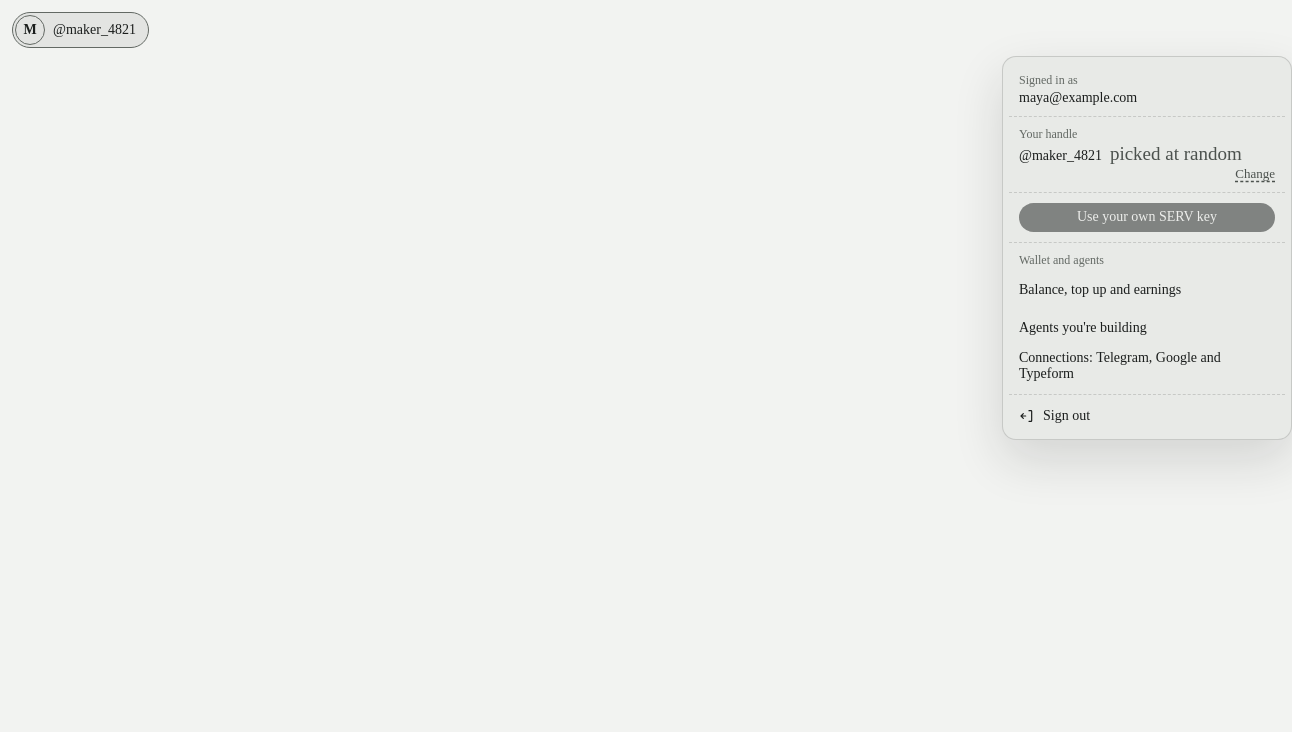
Test: Your handle › checks availability while typing
Click the button "Change" at (1255, 174), box [1235,166,1275,182]
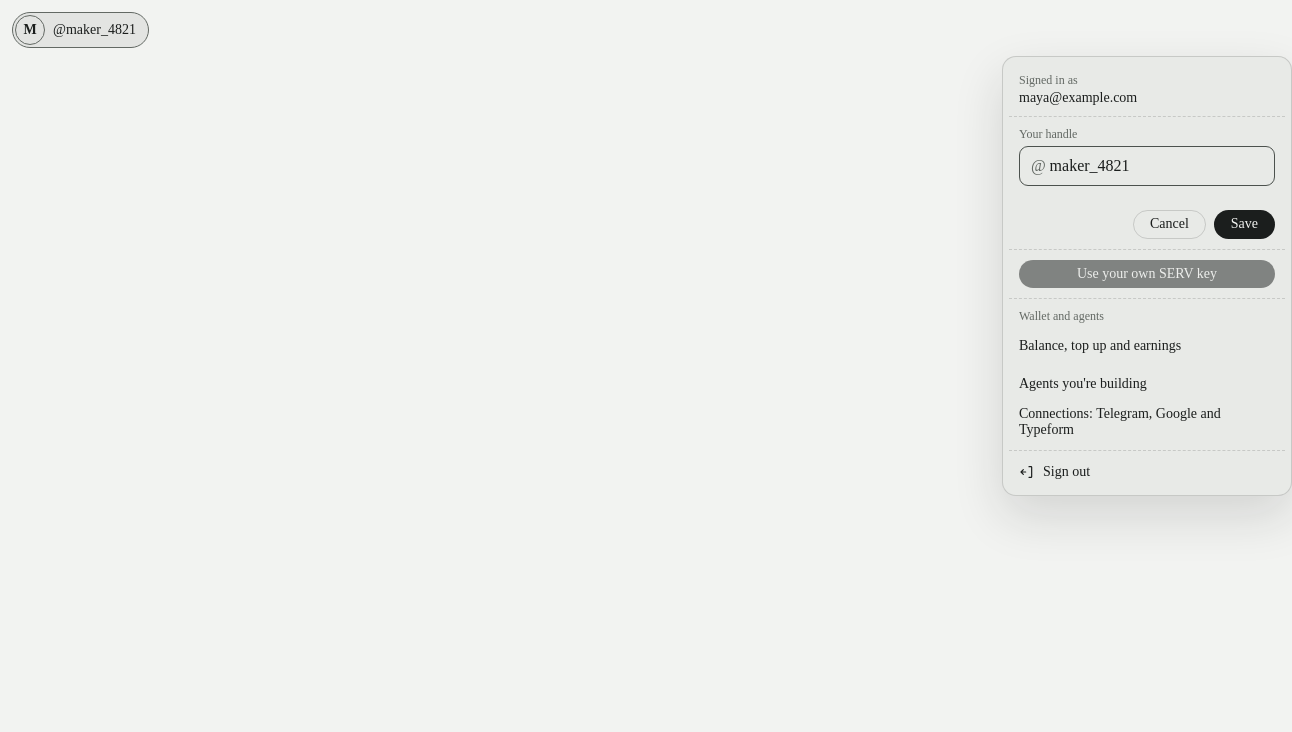
Result: the field labelled "Your handle" holds "maker_4821"
Replace the text in the field labelled "Your handle" with "ab" at (1147, 166), box [1019,146,1275,186]
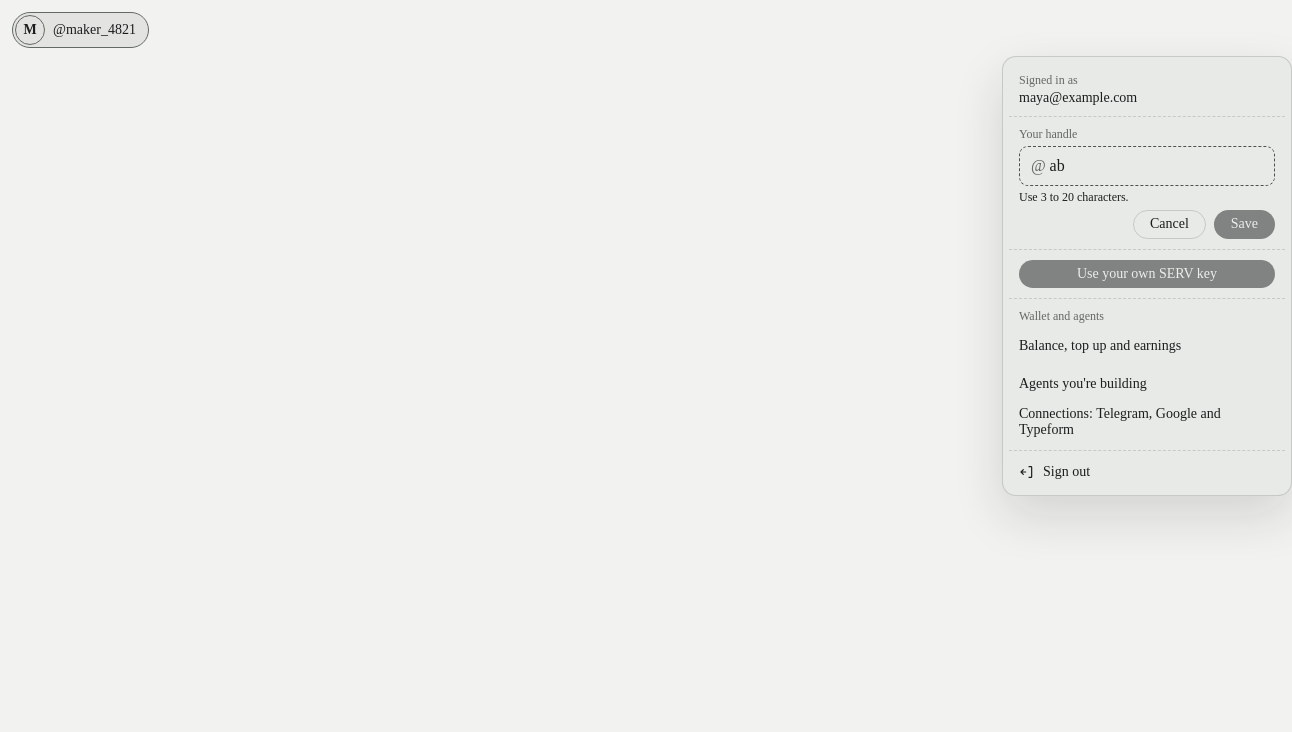
Result: the text "Use 3 to 20 characters." is shown at [1019,190,1129,204]
Replace the text in the field labelled "Your handle" with "Admin" at (1147, 166), box [1019,146,1275,186]
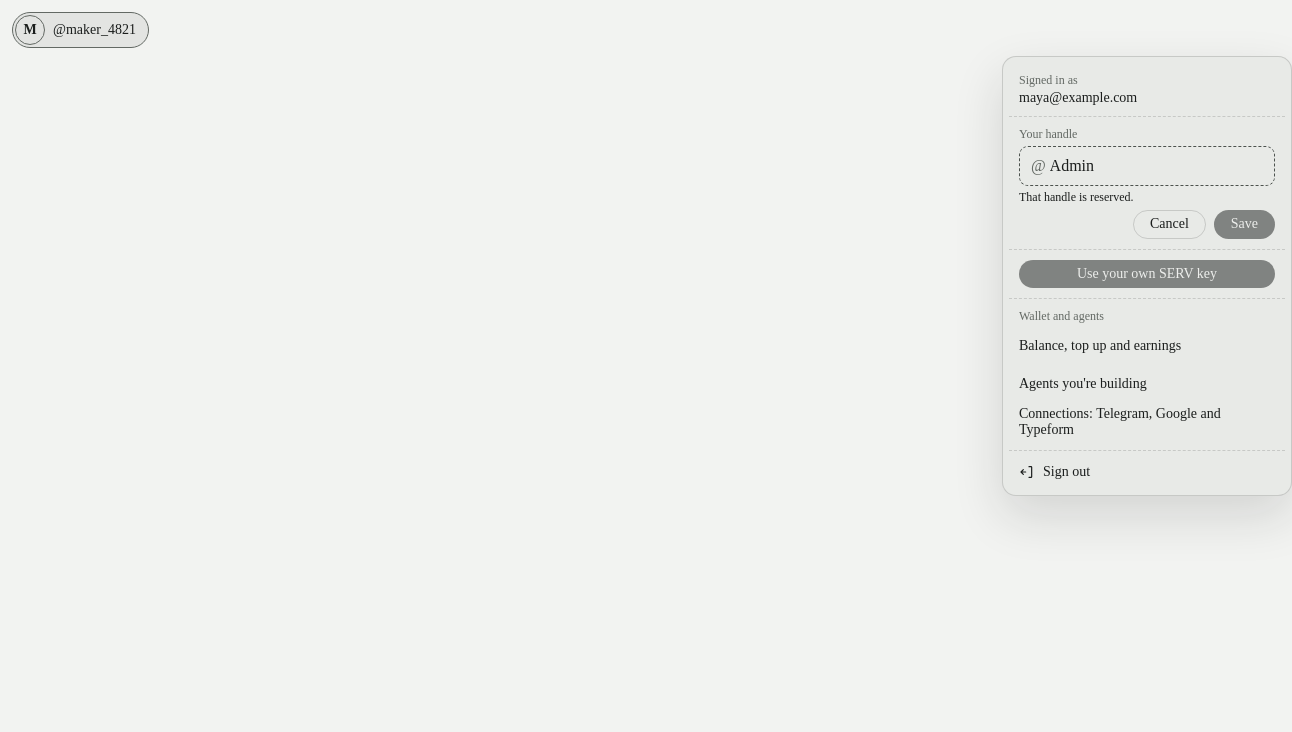
Result: the text "That handle is reserved." is shown at [1019,190,1134,204]
Replace the text in the field labelled "Your handle" with "maya r" at (1147, 166), box [1019,146,1275,186]
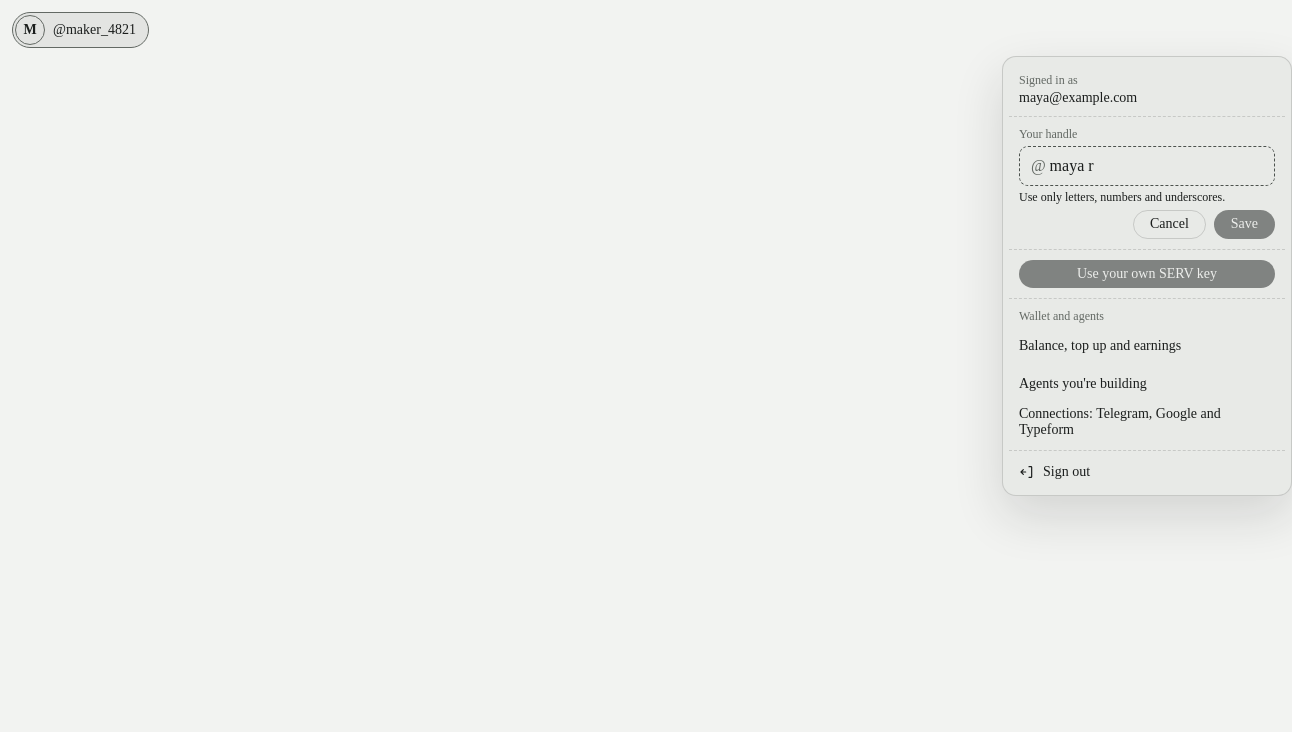
Result: the button "Save" is disabled at [1214,210,1275,239]
Result: the text "Use only letters, numbers and underscores." is shown at [1019,190,1225,204]
Replace the text in the field labelled "Your handle" with "maya" at (1147, 166), box [1019,146,1275,186]
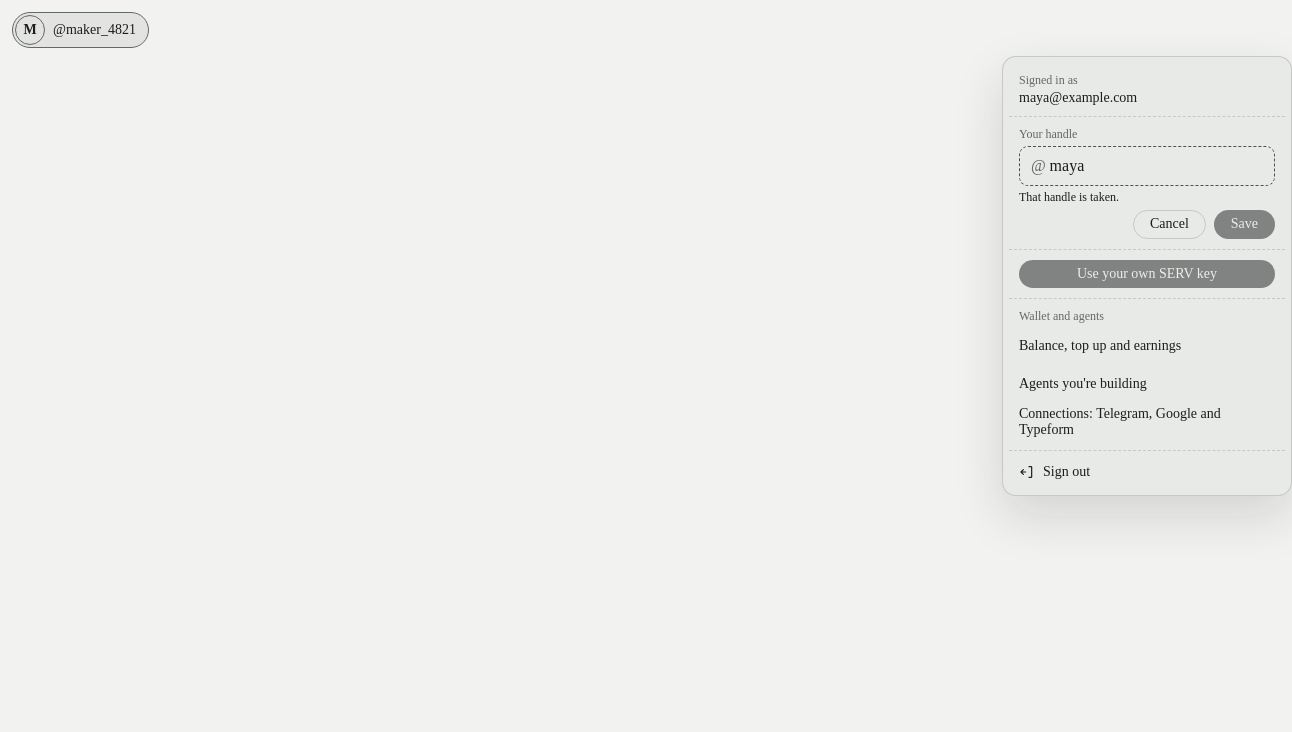
Result: the button "Save" is disabled at [1214,210,1275,239]
Result: the text "That handle is taken." is shown at [1019,190,1119,204]
Replace the text in the field labelled "Your handle" with "Maya_R" at (1147, 166), box [1019,146,1275,186]
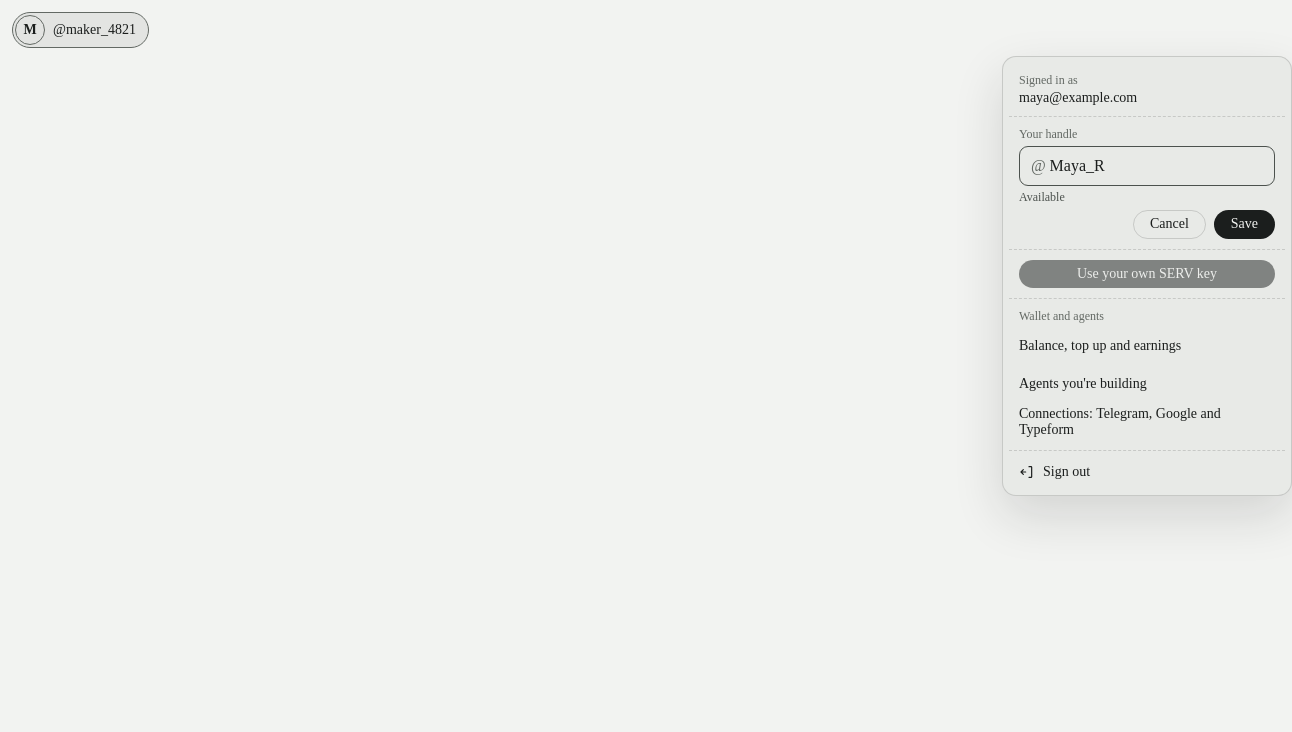
Result: the text "Available" is shown at [1019,190,1065,204]
Result: the button "Save" is enabled at [1214,210,1275,239]
